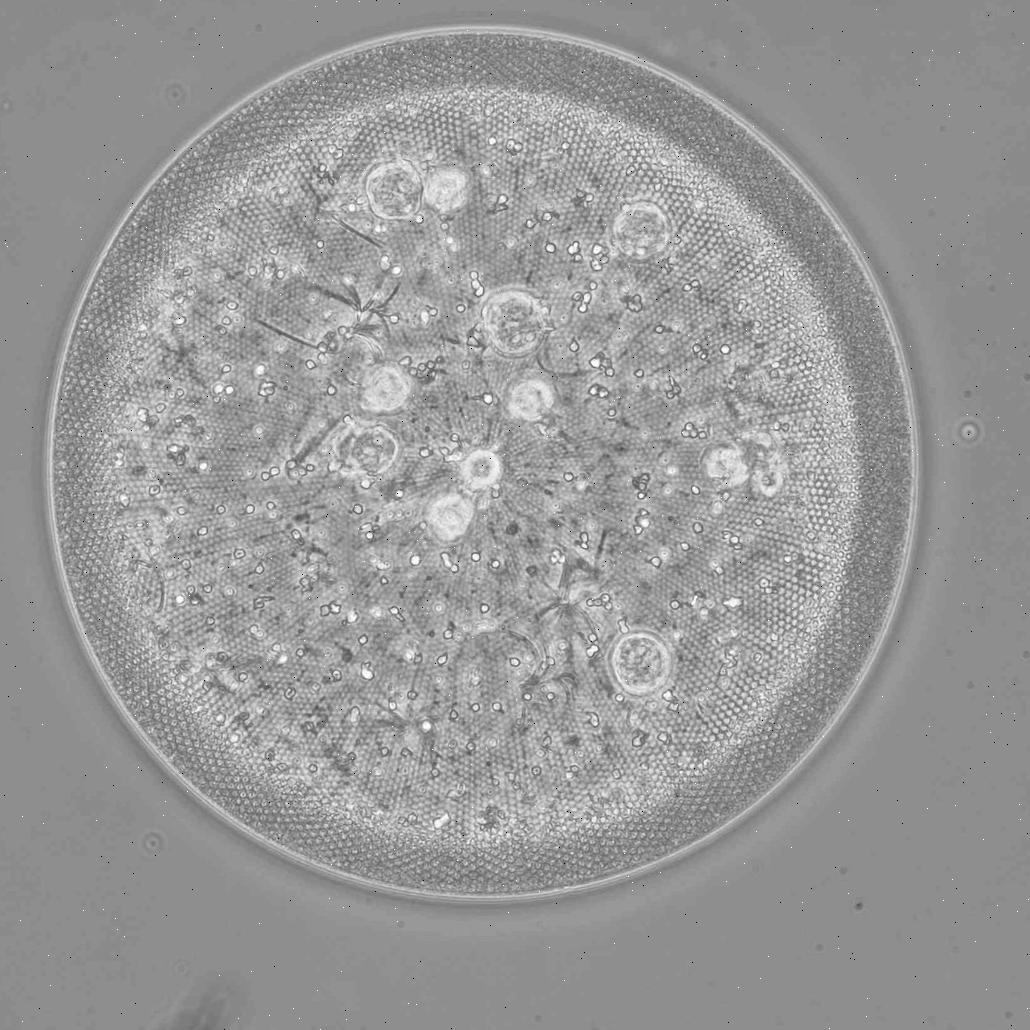coscinodiscus_oculus_iridis: (44, 27, 916, 909)
